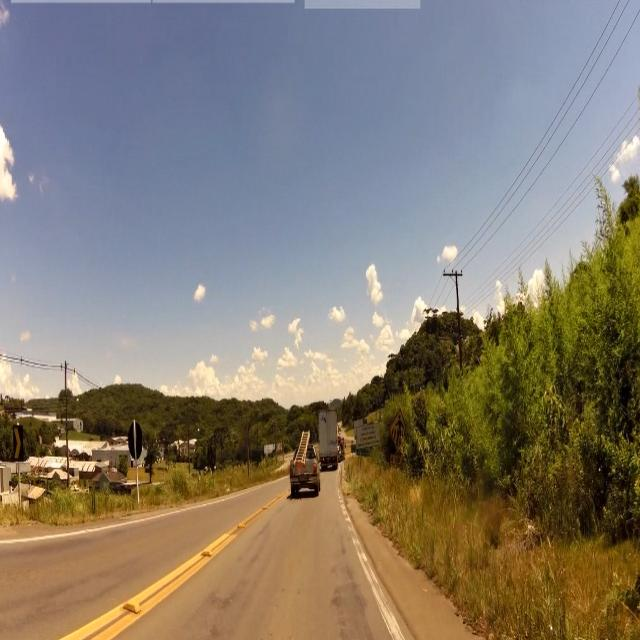A-32b: (390, 408, 408, 452)
